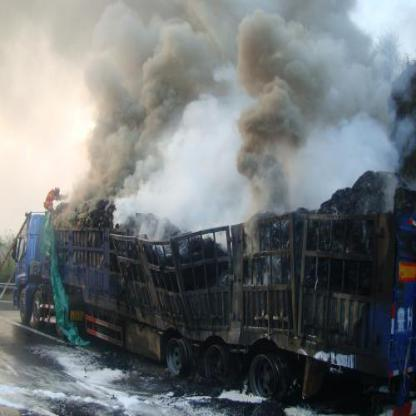smoke: (233, 0, 310, 213), (81, 19, 224, 130), (310, 27, 396, 127), (62, 127, 156, 200)
